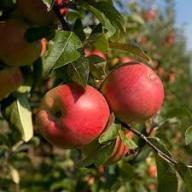apple: (36, 86, 113, 150), (106, 65, 168, 120)
